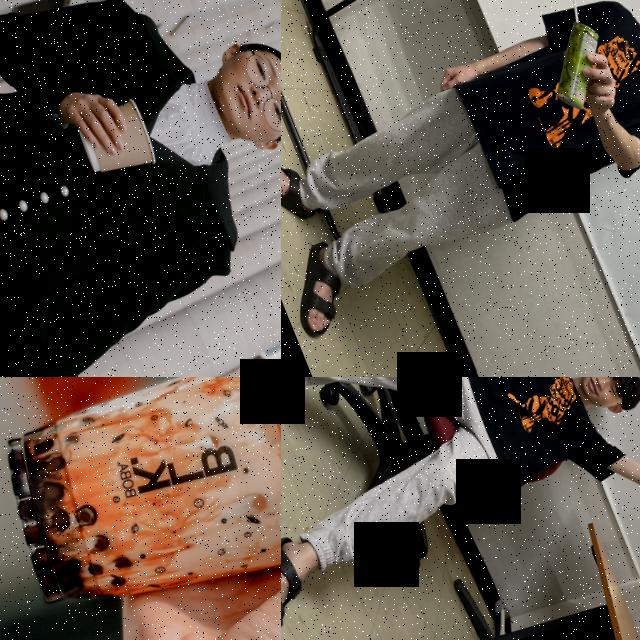can: (530, 12, 622, 118)
cup: (0, 377, 281, 640), (66, 90, 162, 194)
